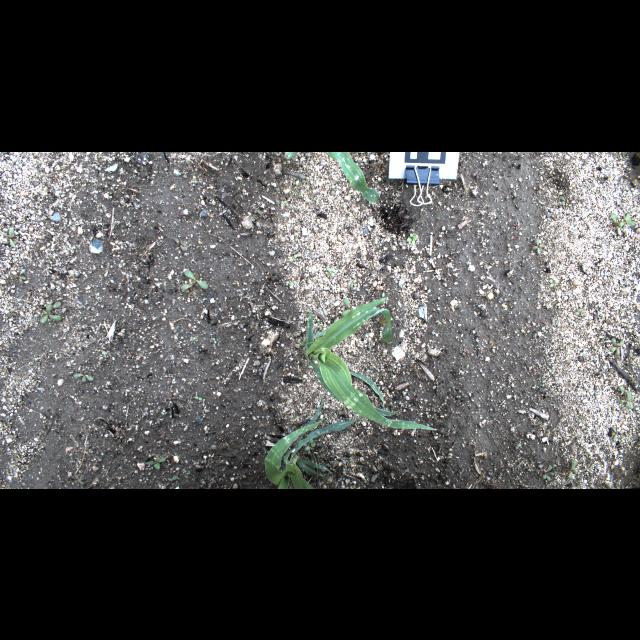crop: (298, 296, 440, 428), (263, 398, 355, 488), (325, 151, 381, 203), (286, 151, 296, 157)
weed: (183, 268, 209, 294), (610, 212, 634, 235), (42, 300, 62, 324), (616, 386, 634, 410), (564, 456, 578, 480), (143, 456, 167, 470), (610, 336, 624, 356), (531, 236, 545, 254), (74, 372, 95, 382), (4, 228, 14, 248), (540, 466, 554, 480), (174, 236, 186, 250), (610, 425, 620, 441), (407, 232, 418, 244), (14, 274, 26, 284), (574, 307, 586, 315), (560, 194, 568, 206), (550, 279, 558, 289), (326, 268, 334, 278), (290, 253, 298, 261), (349, 280, 356, 286), (285, 280, 295, 284)
